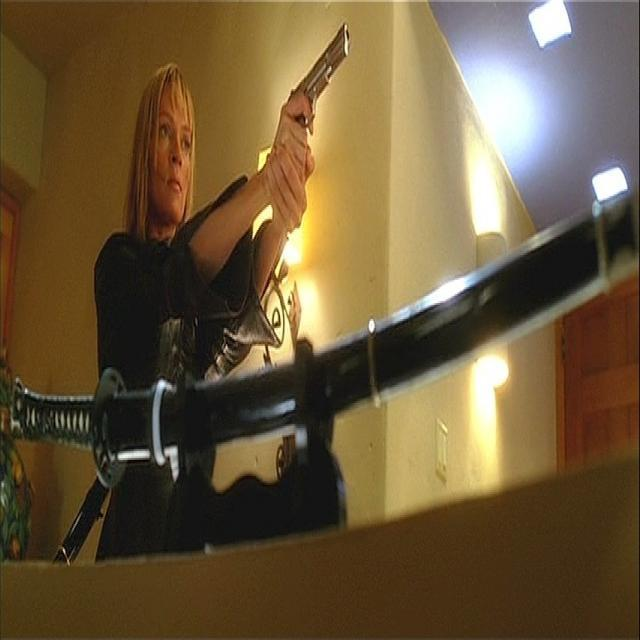gun-knife-thesis - v11 Yolov5 augmented: (274, 20, 352, 176)
